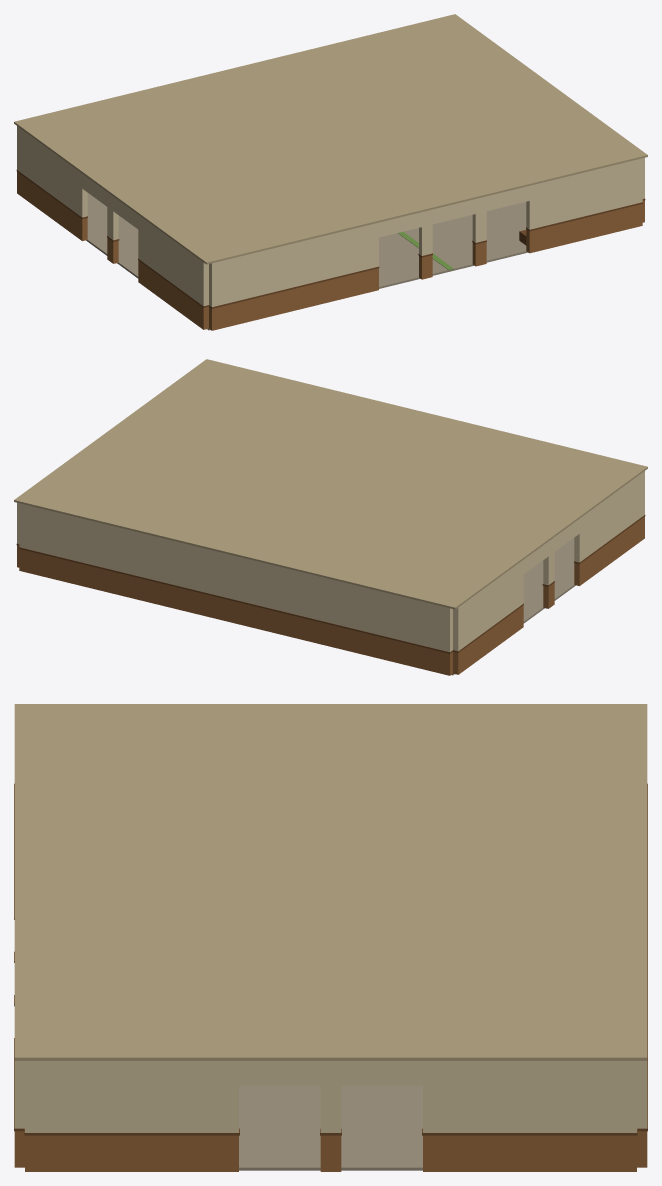
File: room_shared_welcome_center.glb
The picture shows the model from 3 angles, top to bottom: view 1: azimuth 30°, elevation 25°; view 2: azimuth 150°, elevation 25°; view 3: azimuth 270°, elevation 25°; orthographic projection. The views are drawn at different scales.
Visible parts, largest first — view 1: room_shared_welcome_center; view 2: room_shared_welcome_center; view 3: room_shared_welcome_center.
Part boxes in pixels (bbox=[...]): room_shared_welcome_center: bbox=[14, 14, 647, 330]; room_shared_welcome_center: bbox=[14, 359, 647, 675]; room_shared_welcome_center: bbox=[14, 704, 647, 1171].
Bounding box in the file's own units: 24.62 × 3.8 × 18.64.
1 material, 1 textured.
